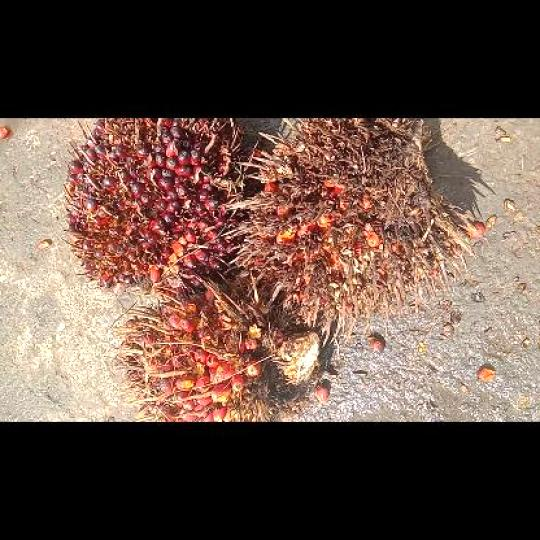masak: (60, 117, 257, 298), (110, 273, 318, 420)
terlalu masak: (221, 117, 477, 344)
